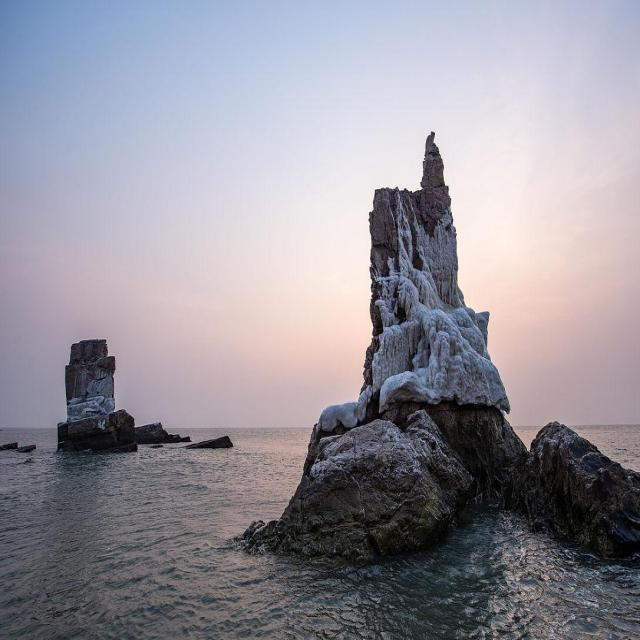reef: (307, 168, 640, 562), (60, 302, 273, 501)
